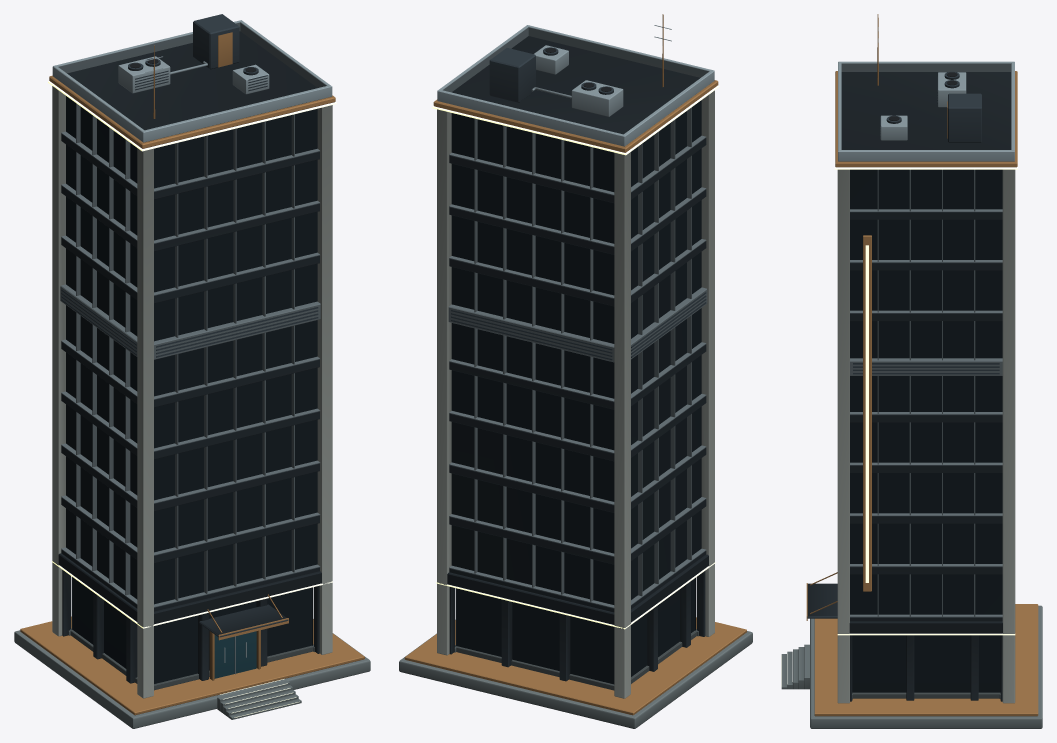
The model's file is data-tower-a.lod0.glb.
3 views of the same model, side by side, from view 1: azimuth 30°, elevation 25°; view 2: azimuth 150°, elevation 25°; view 3: azimuth 270°, elevation 25° (orthographic). The views are drawn at different scales.
Visible parts, largest first — view 1: structure; view 2: structure; view 3: structure.
Part boxes in pixels (x1,y1,x2,y2): structure: (14, 14, 370, 728); structure: (399, 14, 752, 728); structure: (781, 14, 1042, 728).
Bounding box in the file's own units: 15 × 38.79 × 14.61.
